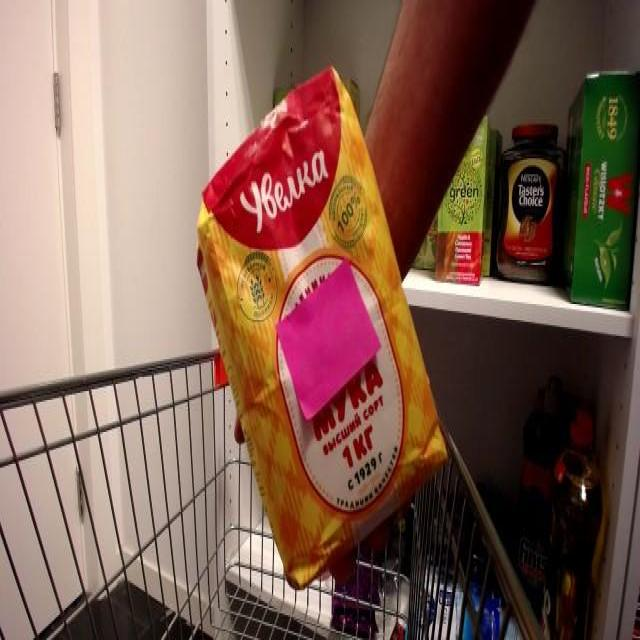Almond Milk: (192, 57, 456, 601)
